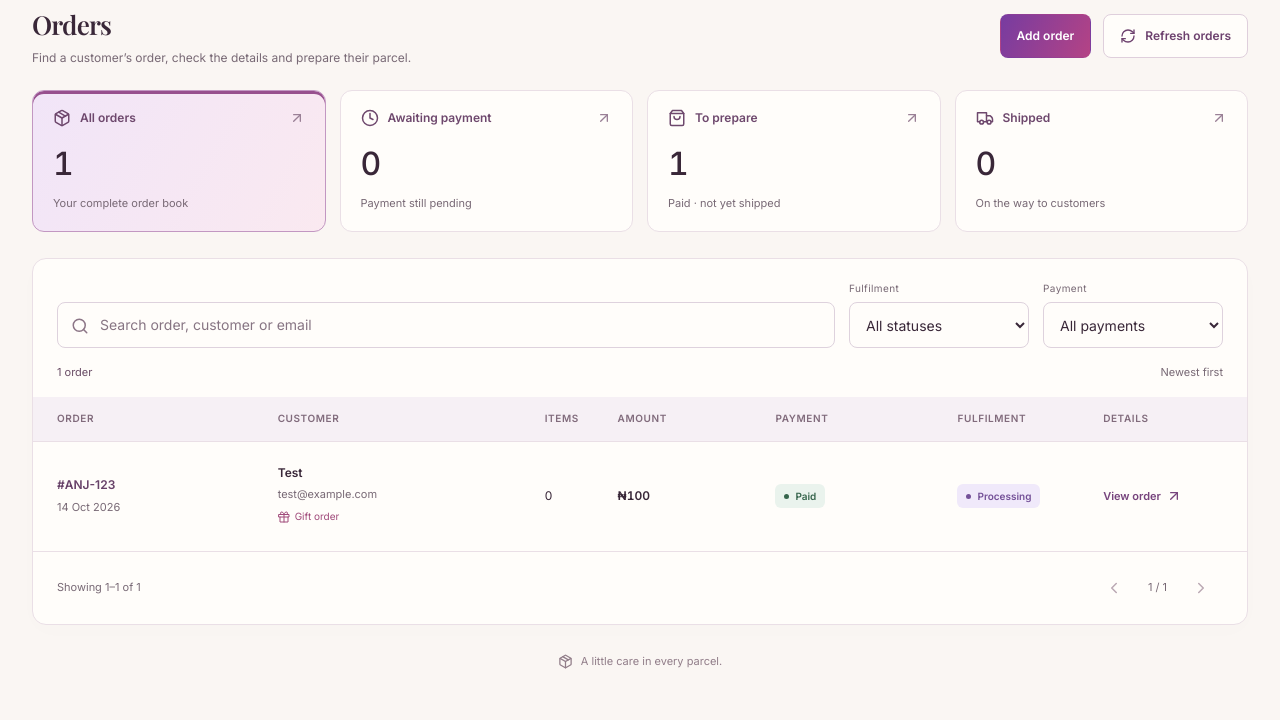
admin sees gift instructions and sends the tracking number with shipped status
This screenshot has width=1280, height=720.
(page scrolled)
Click the button with aria-label "View order ANJ-123". click: point(1142, 496)
box: x1=1103 y1=474 x2=1182 y2=518
(page scrolled)
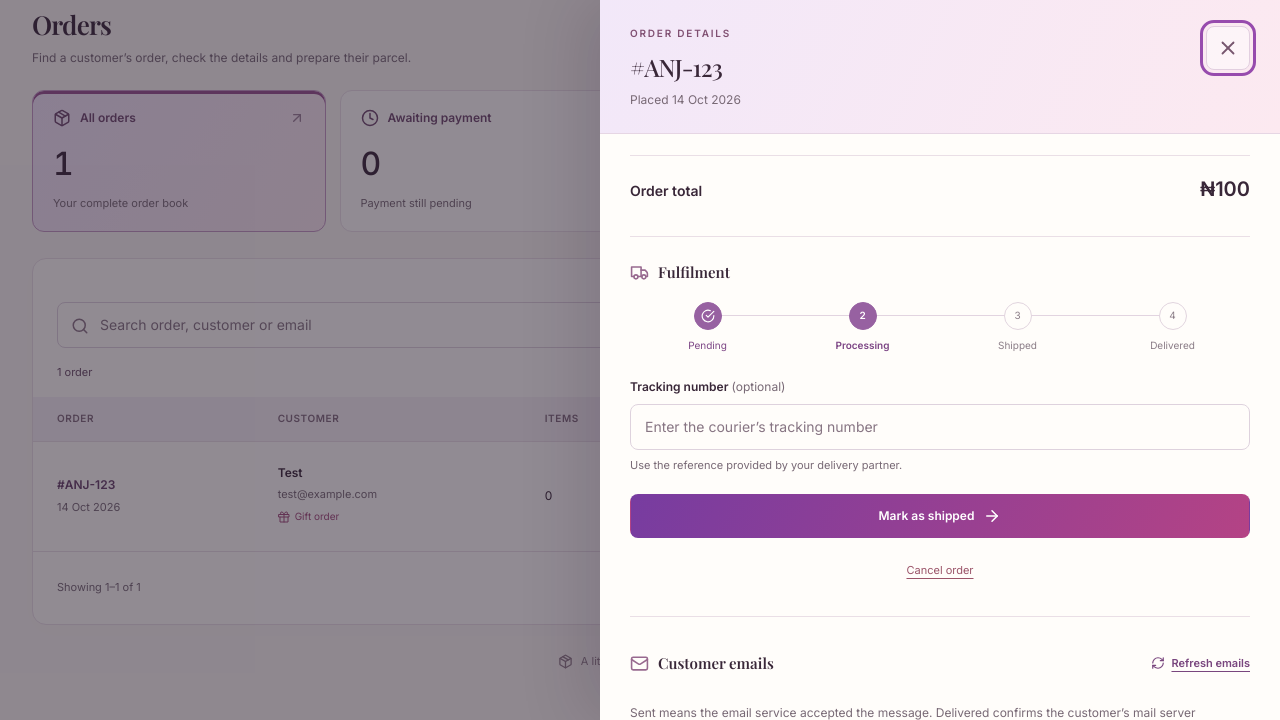
Type "TRACK-123" into the field labelled "Tracking number (optional)". click: point(940, 427)
box: x1=630 y1=404 x2=1250 y2=450
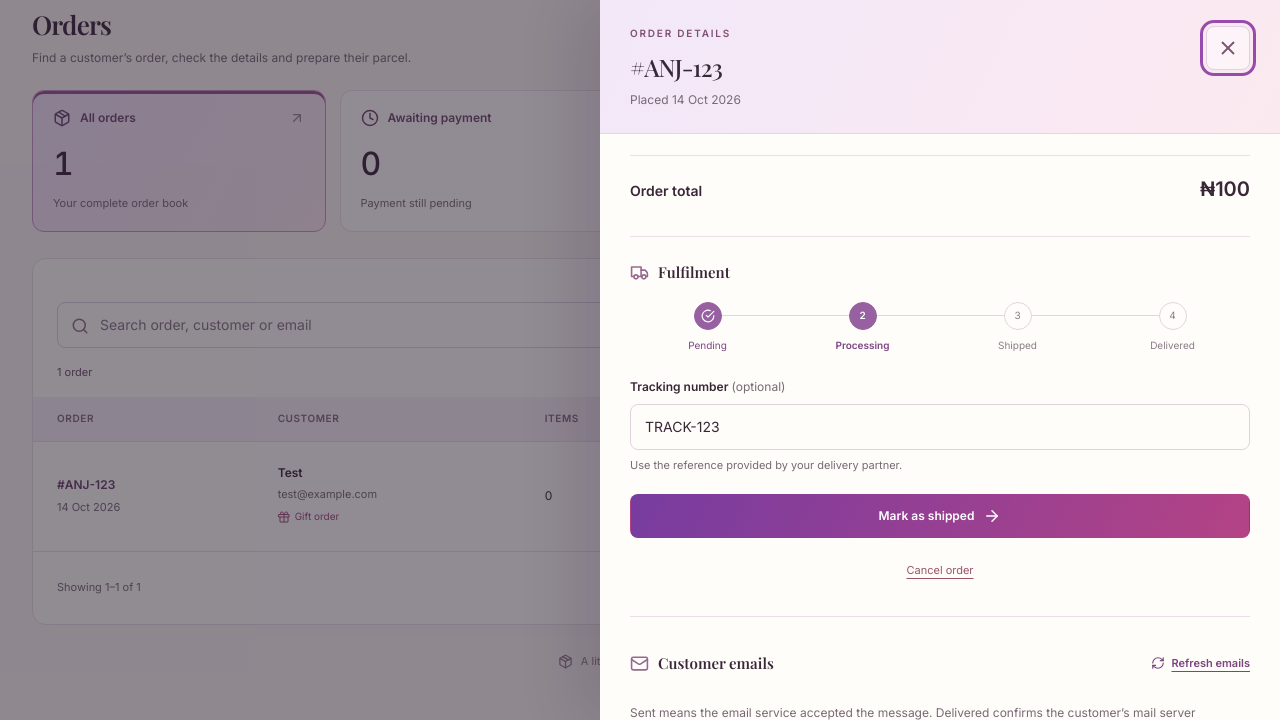
Click the button "Mark as shipped". click: point(940, 516)
box: x1=630 y1=494 x2=1250 y2=538
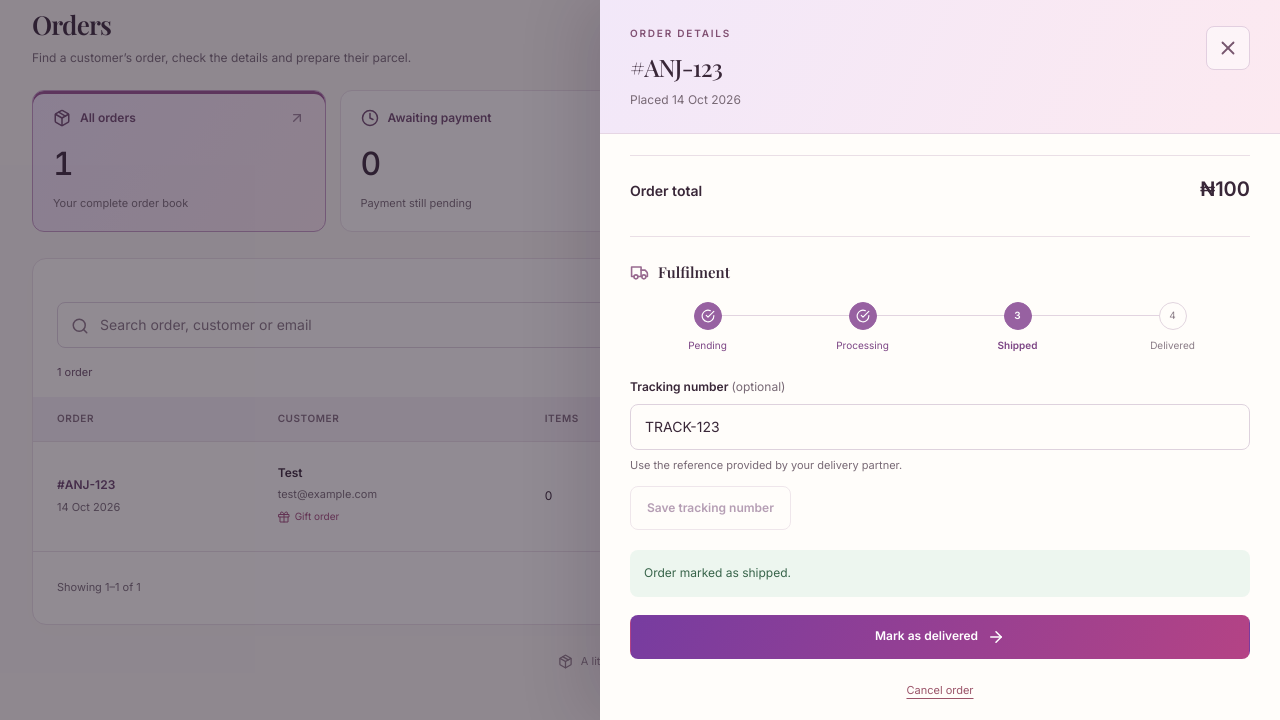
Now the button "Save tracking number" is shown, box x1=630 y1=486 x2=791 y2=530
